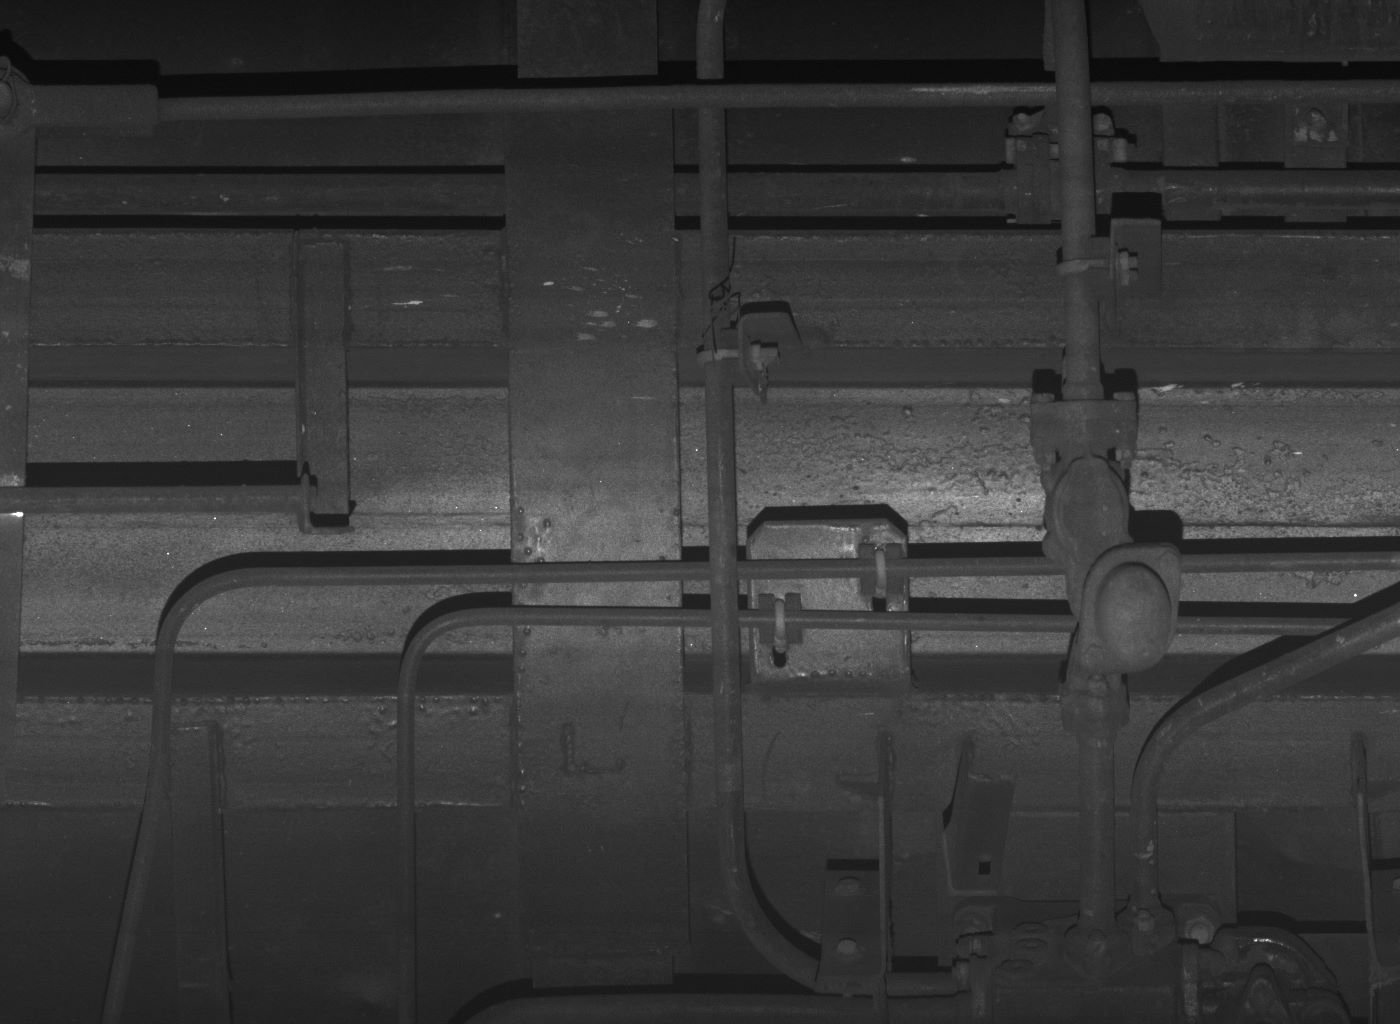normal: (1041, 452, 1136, 564)
